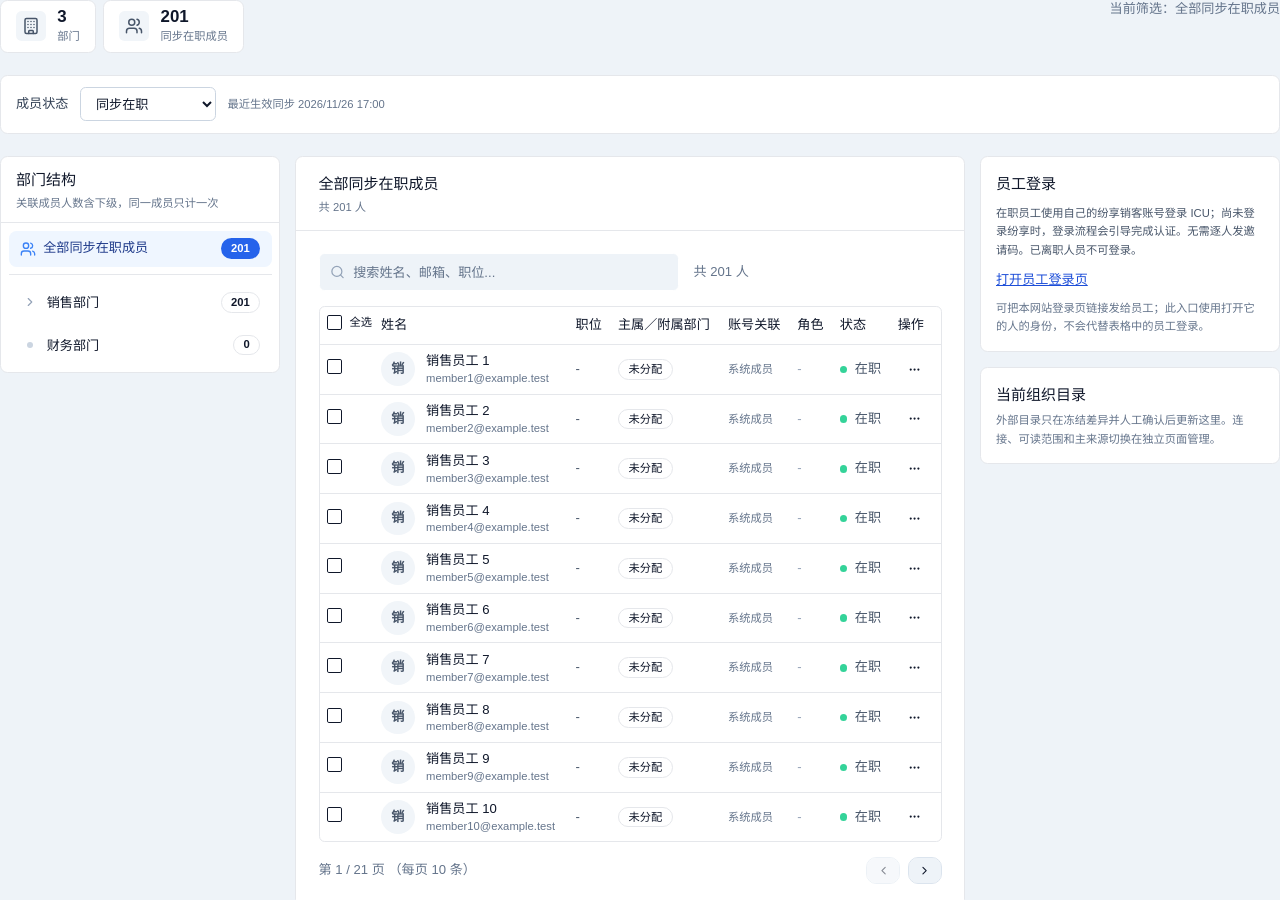
Test: suspends accounts in batches across all pages and refreshes the member list once
This screenshot has width=1280, height=900.
Click the button "销售部门 201" at [73, 303], box left=23, top=292, right=260, bottom=313
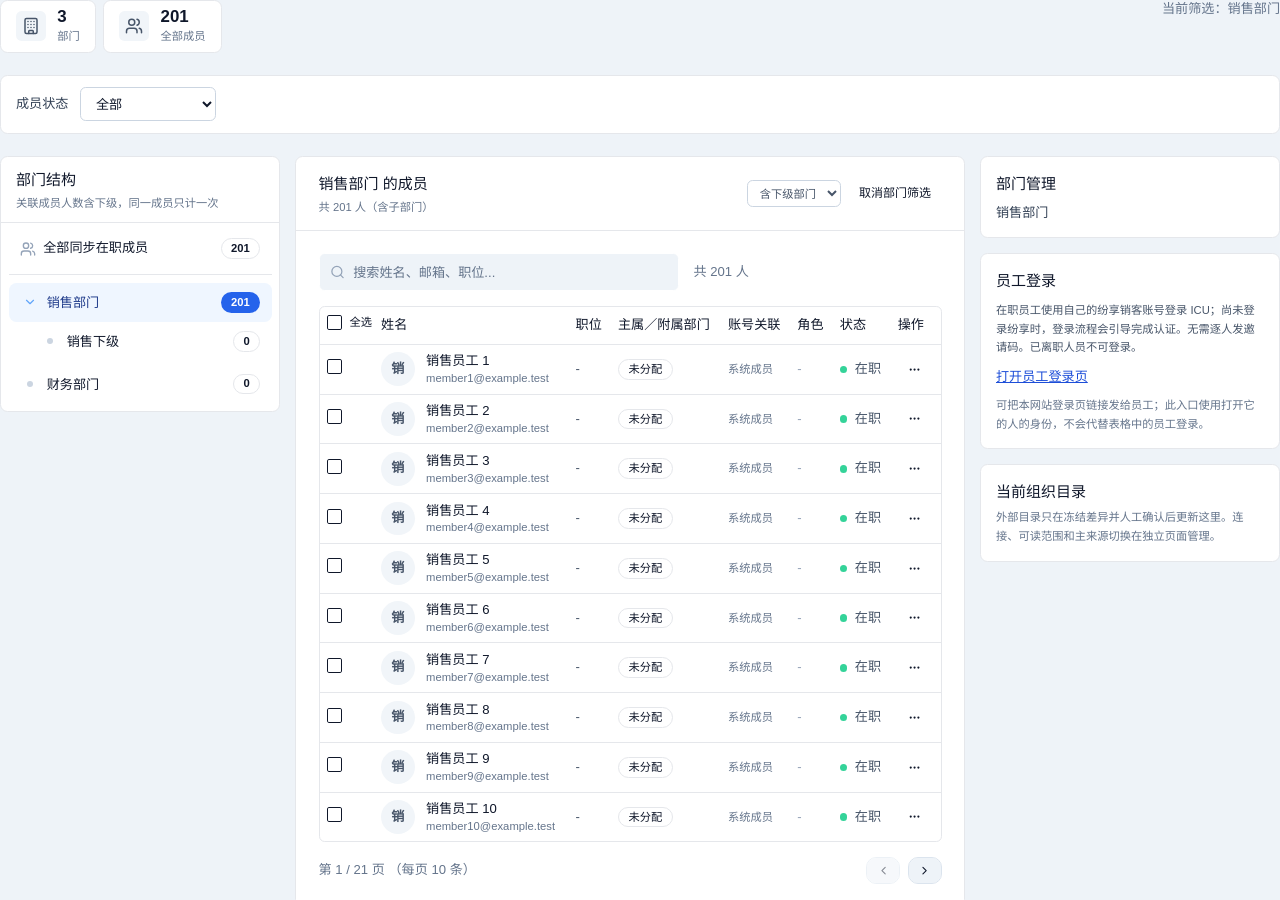
Click the checkbox named "全选当前名单" at [334, 322], box left=327, top=315, right=342, bottom=330
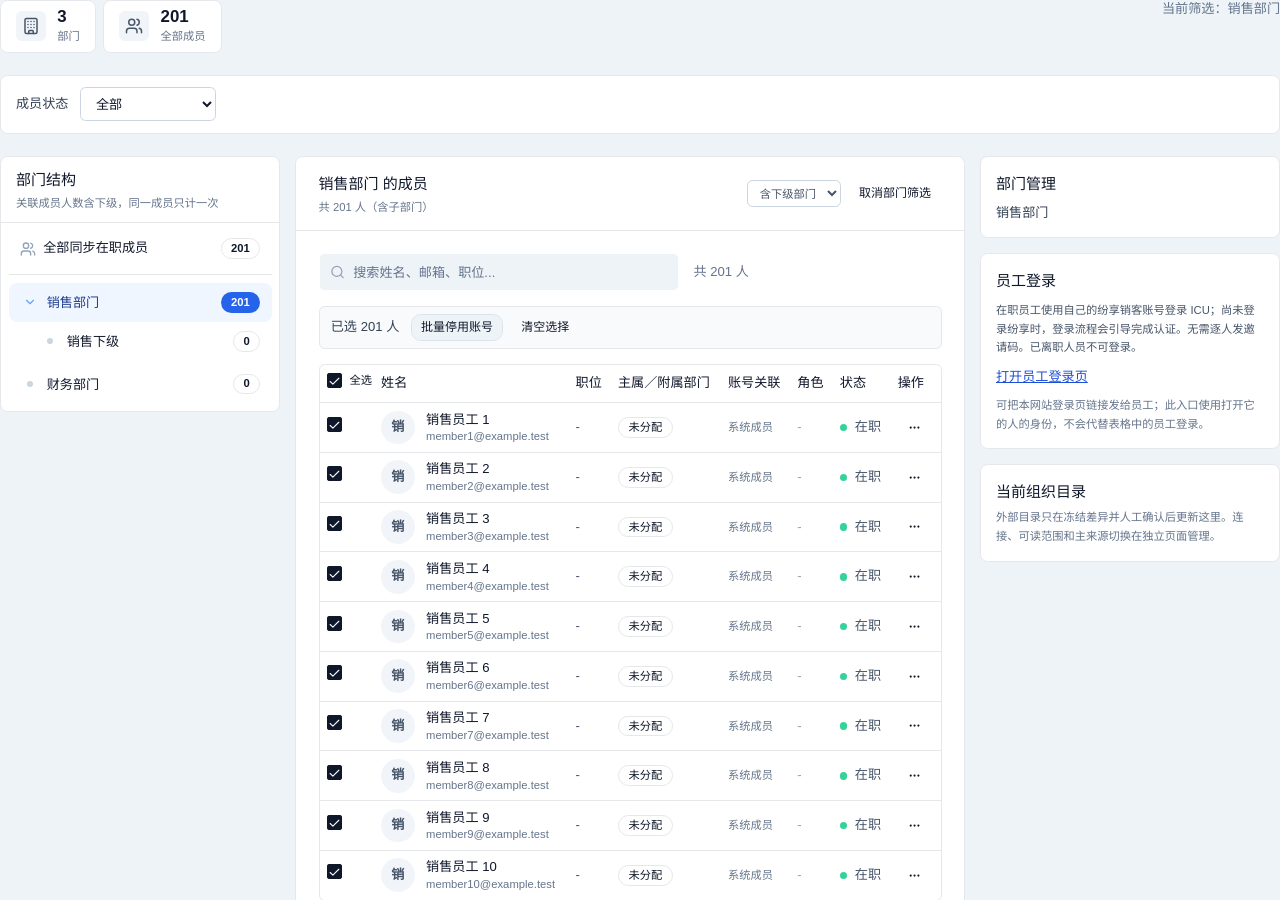
Click the button "批量停用账号" at [457, 328], box left=410, top=314, right=503, bottom=341
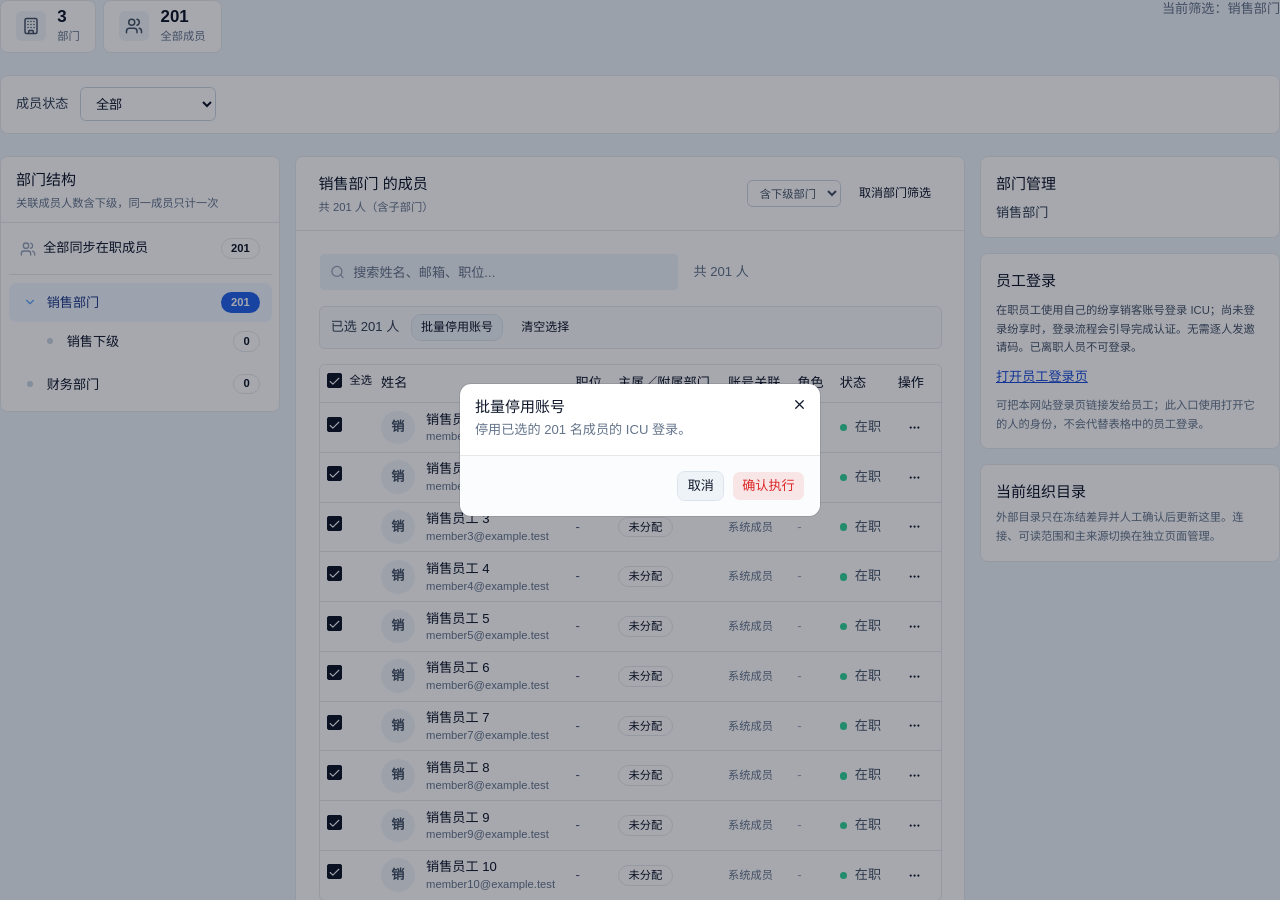
Click the button "确认执行" at [768, 486], box left=732, top=471, right=805, bottom=501
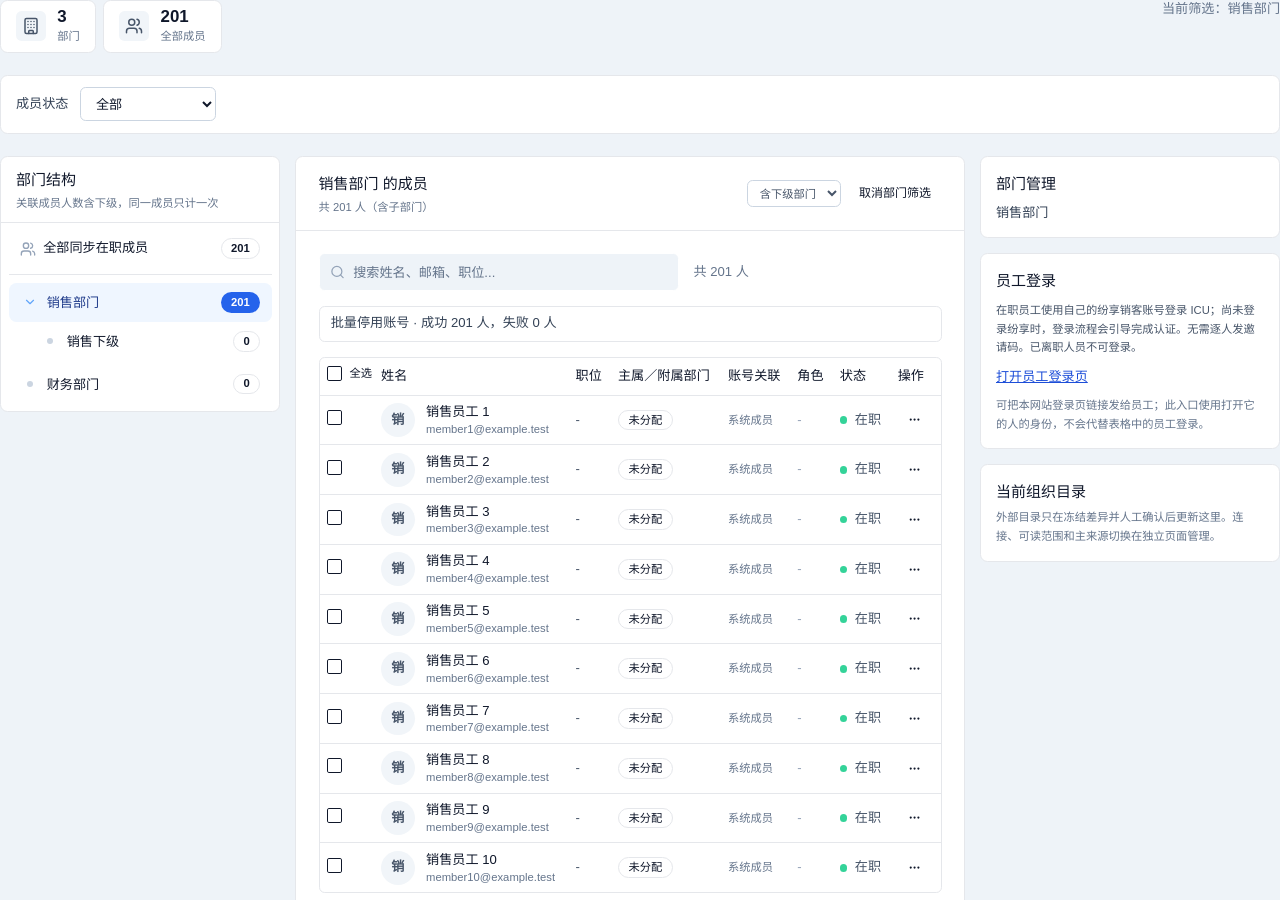
Result: the text "批量停用账号 · 成功 201 人，失败 0 人" is shown at left=331, top=315, right=557, bottom=330
